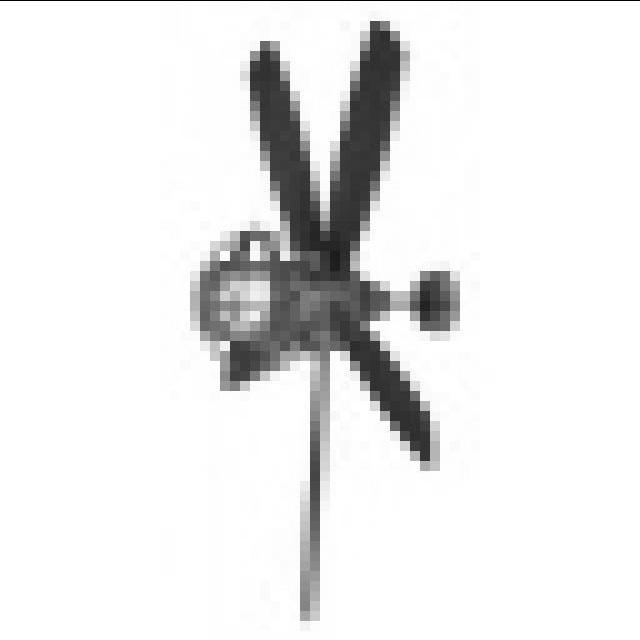fan: (190, 19, 463, 627)
